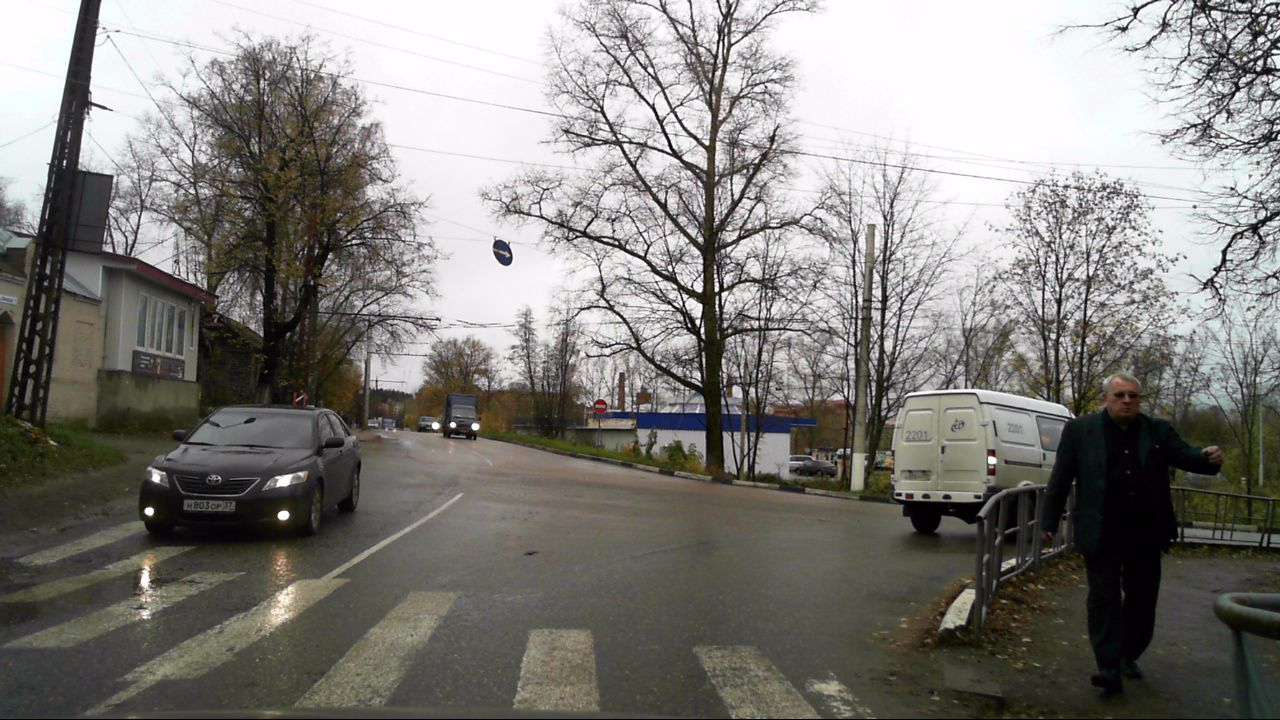Turn Right: (493, 240, 513, 266)
